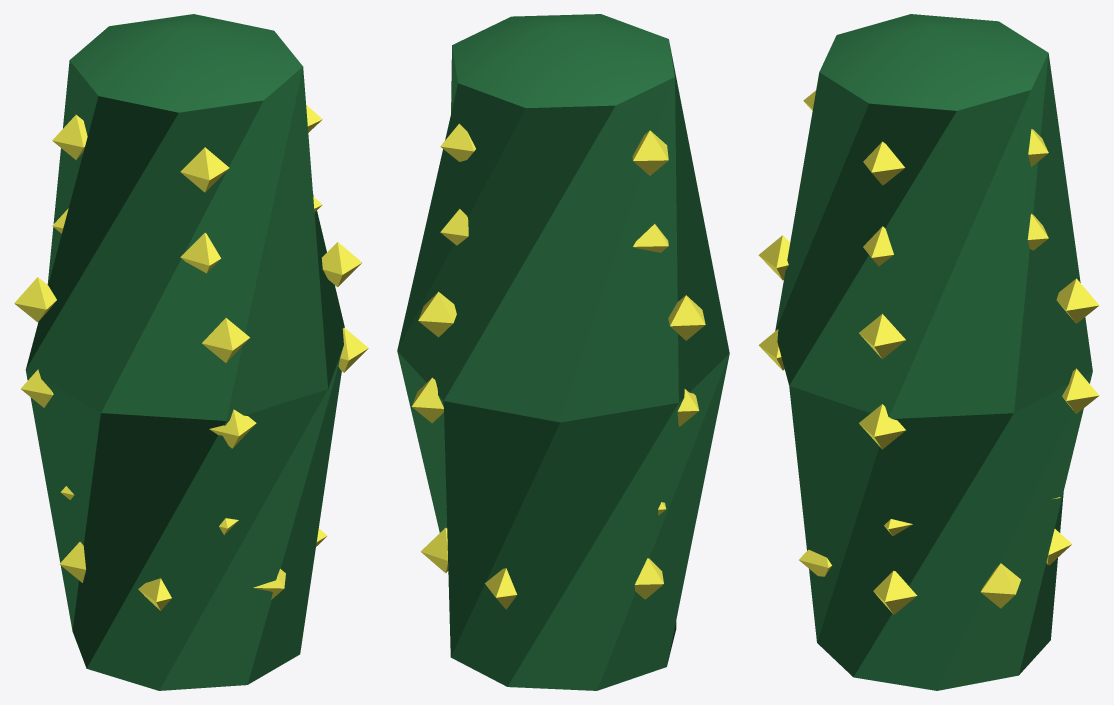
Rendered from cactos 03.fbx.
3 renders of one model, left to right at view 1: azimuth 30°, elevation 25°; view 2: azimuth 150°, elevation 25°; view 3: azimuth 270°, elevation 25°, orthographic.
Visible parts, largest first — view 1: Cactos_03; view 2: Cactos_03; view 3: Cactos_03.
Boxes of the visible parts, x1,y1,x2,y2 form: Cactos_03: (14, 14, 368, 690); Cactos_03: (397, 14, 729, 690); Cactos_03: (758, 14, 1099, 690).
Bounding box in the file's own units: 50.36 × 97.68 × 48.09.
